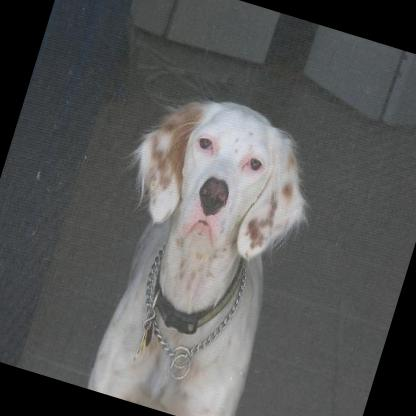English_setter: (52, 69, 331, 416)
